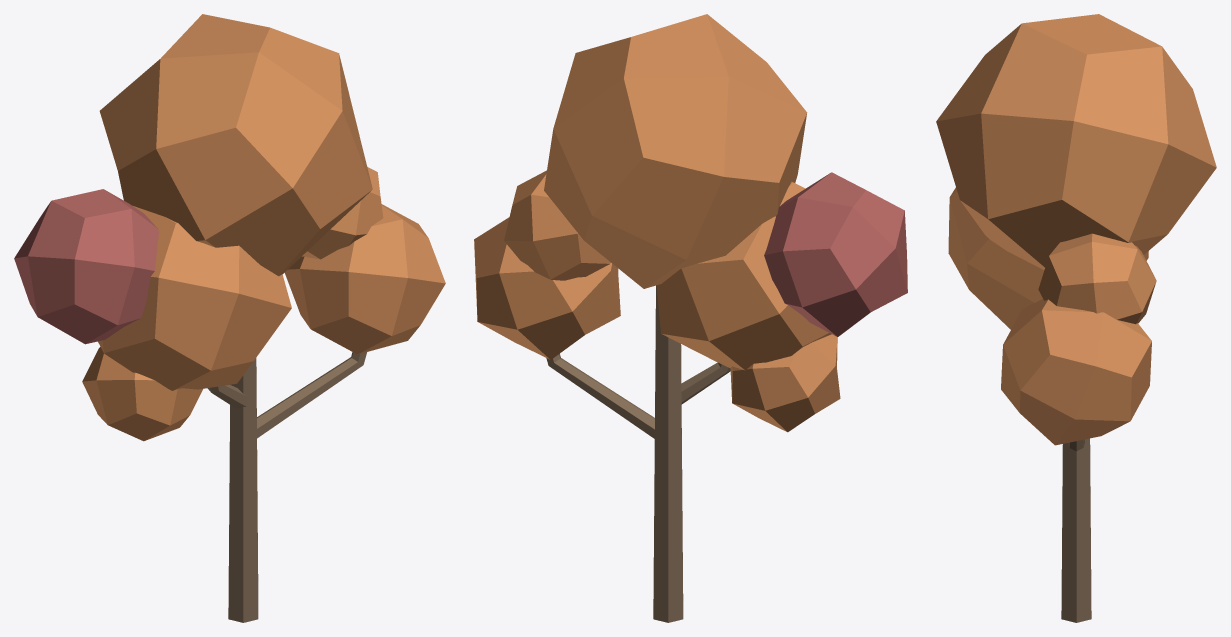
The model's file is tree1.gltf.
The picture shows the model from 3 angles, left to right: view 1: azimuth 30°, elevation 25°; view 2: azimuth 150°, elevation 25°; view 3: azimuth 270°, elevation 25°; orthographic projection.
Parts seen in each view (by area): view 1: tree1; view 2: tree1; view 3: tree1.
Boxes of the visible parts, left/top/right/bottom form: tree1: left=14, top=14, right=445, bottom=622; tree1: left=474, top=14, right=907, bottom=622; tree1: left=936, top=14, right=1216, bottom=622.
Bounding box in the file's own units: 8.34 × 11.44 × 4.96.
